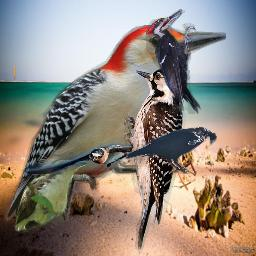Crow: (124, 126, 217, 174)
Cuckoo: (14, 159, 87, 232)
Swallow: (24, 137, 169, 174)
Woodpecker: (4, 25, 226, 222), (124, 63, 186, 255), (146, 9, 201, 114)
